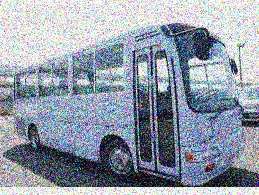bus: (15, 24, 240, 183)
